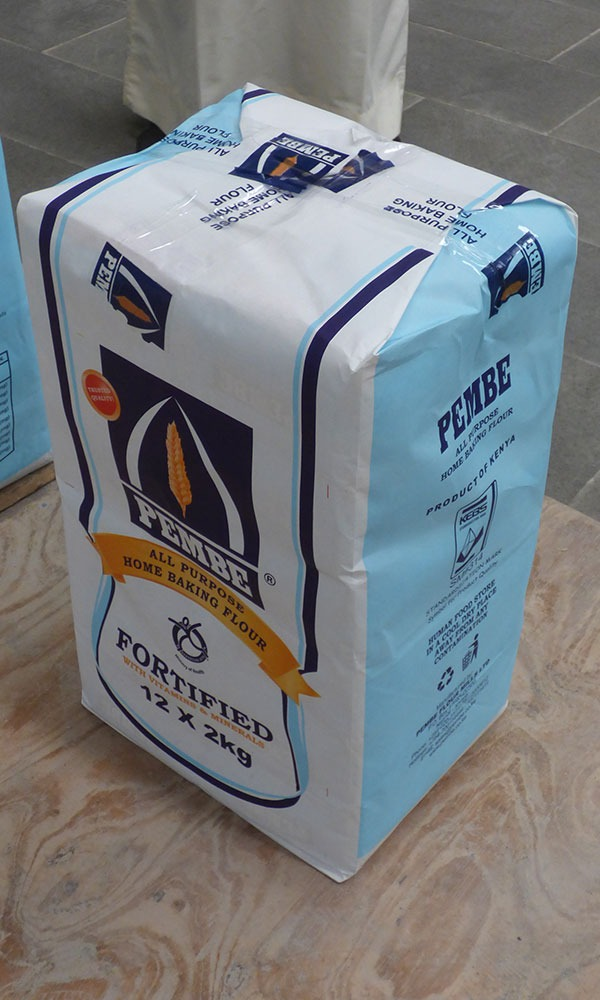wheat_flour_blue_label: (14, 79, 570, 875)
